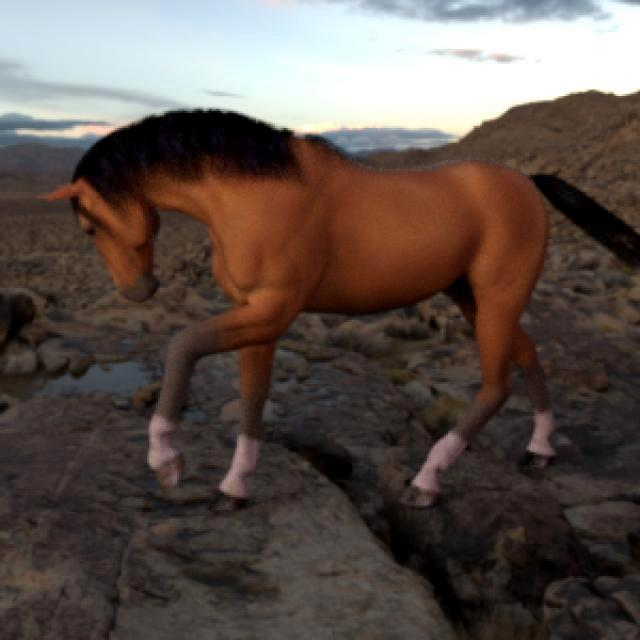horse: (44, 111, 640, 509)
